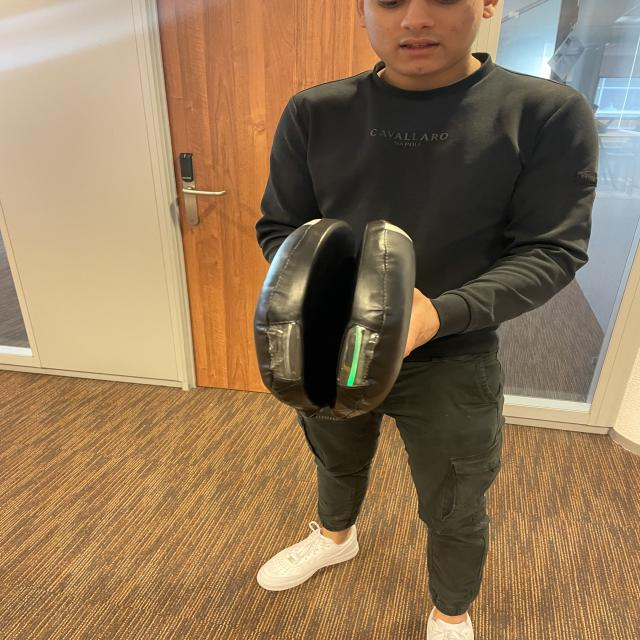paddle: (255, 214, 412, 416)
trigger: (344, 321, 368, 389)
